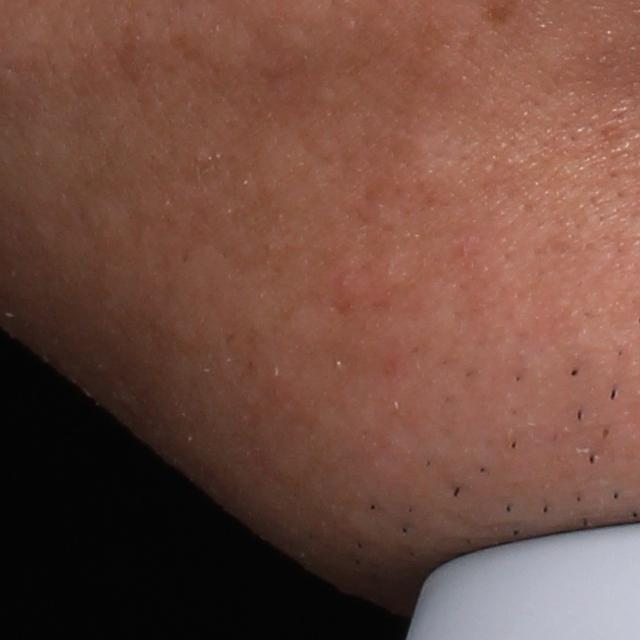hypertrophic_scar: (391, 122, 468, 197)
